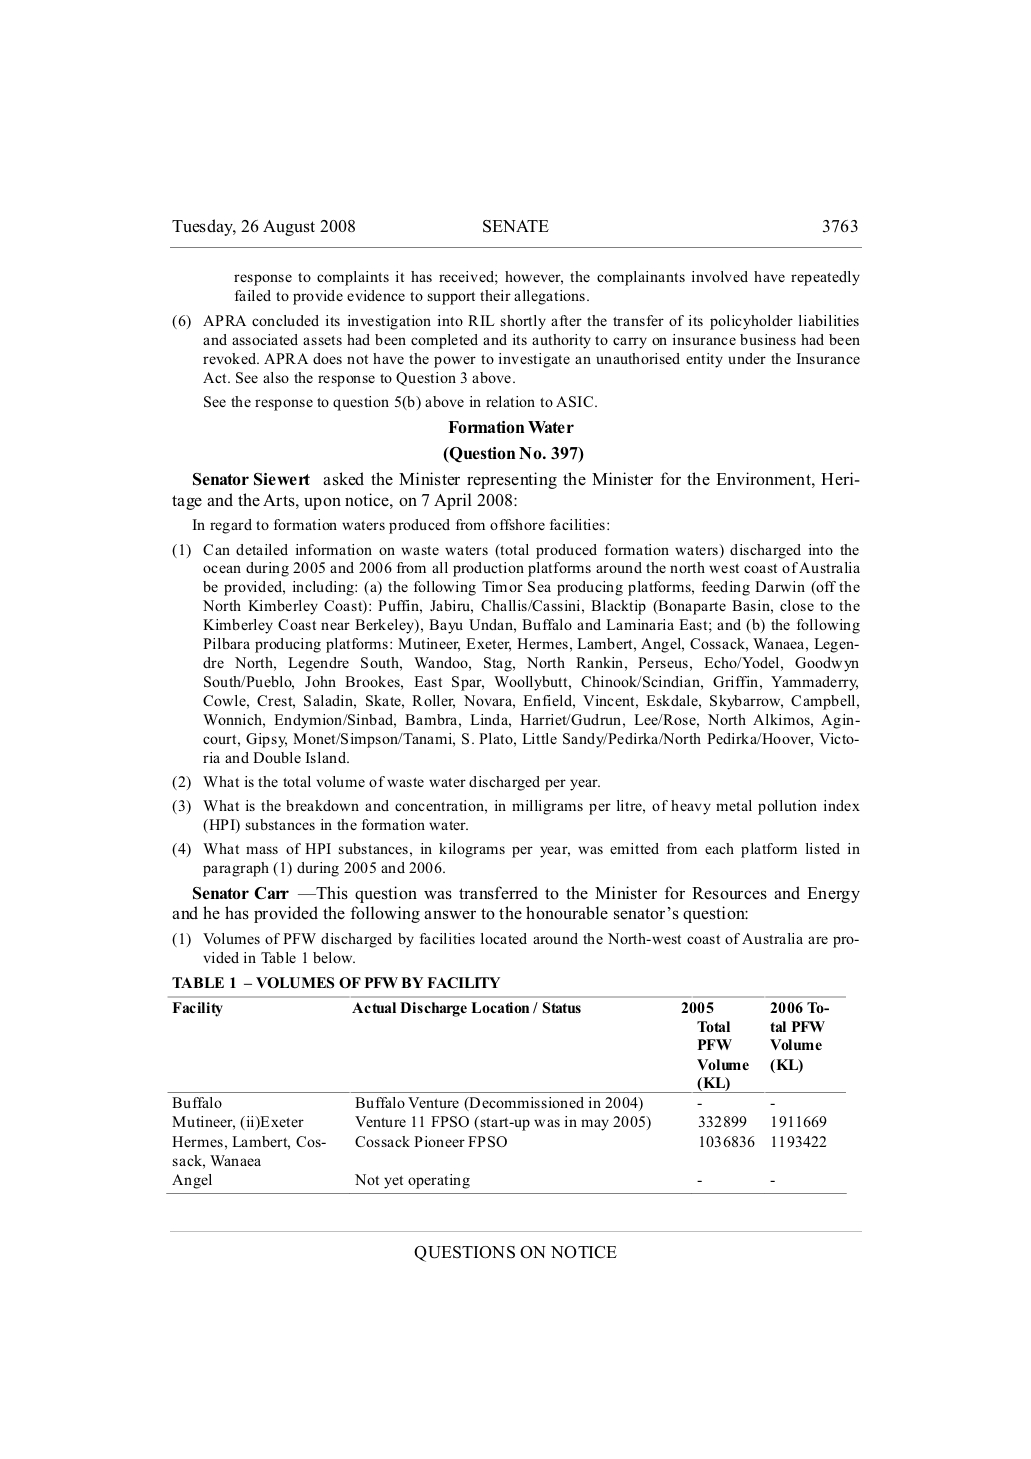Table: (166, 996, 846, 1194)
